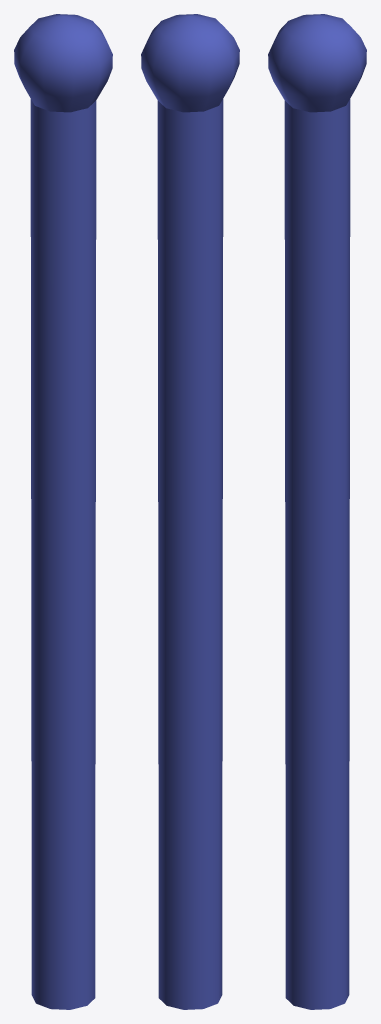
Rendered from mesh_Soporte.fbx.
3 views of the same model, side by side, from view 1: azimuth 30°, elevation 25°; view 2: azimuth 150°, elevation 25°; view 3: azimuth 330°, elevation 25° (orthographic).
Visible parts, largest first — view 1: mesh_Soporte; view 2: mesh_Soporte; view 3: mesh_Soporte.
Boxes of the visible parts, x1,y1,x2,y2 form: mesh_Soporte: (14, 14, 112, 1009); mesh_Soporte: (141, 14, 239, 1009); mesh_Soporte: (268, 14, 366, 1009).
Bounding box in the file's own units: 172 × 1875 × 164.
